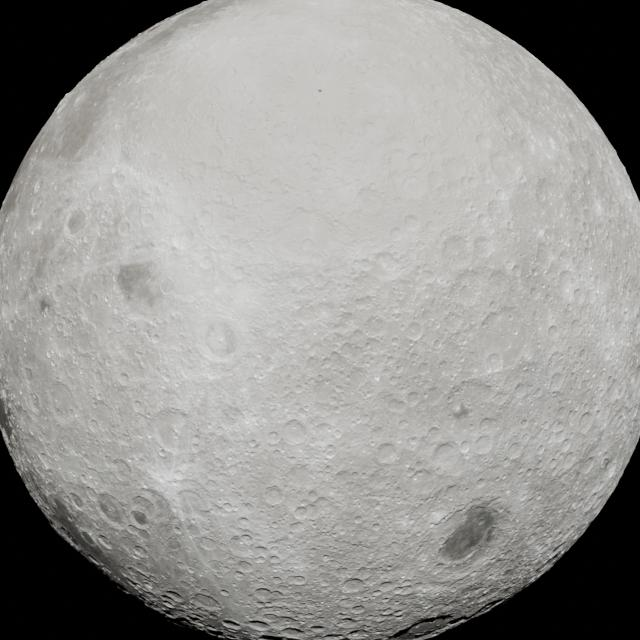crater: (476, 307, 522, 352), (449, 380, 497, 417), (533, 171, 573, 213), (449, 266, 490, 302), (150, 413, 187, 451), (203, 321, 239, 359), (42, 379, 78, 417), (353, 185, 388, 214), (359, 312, 390, 340), (96, 496, 124, 526), (488, 149, 516, 177), (440, 234, 469, 260), (281, 418, 307, 444), (218, 403, 245, 428), (131, 494, 156, 520), (471, 233, 497, 258), (161, 530, 185, 557), (486, 197, 510, 223), (20, 390, 42, 418), (555, 270, 577, 297), (432, 442, 457, 464), (65, 210, 87, 235), (376, 251, 401, 273), (180, 490, 205, 512), (376, 442, 400, 464), (473, 431, 495, 455), (191, 250, 215, 272), (112, 458, 133, 480), (263, 486, 285, 506), (388, 223, 408, 245), (484, 353, 504, 374), (67, 491, 87, 512), (404, 321, 424, 341), (478, 417, 498, 437), (170, 232, 190, 252), (116, 217, 134, 238), (477, 131, 495, 152), (386, 397, 406, 415), (410, 468, 430, 486), (197, 593, 218, 610), (506, 441, 524, 460), (342, 577, 364, 592), (30, 195, 45, 217), (265, 428, 282, 446), (139, 211, 156, 229), (298, 237, 316, 254), (112, 172, 128, 190), (199, 536, 217, 552), (163, 590, 183, 604), (548, 372, 564, 389), (402, 213, 419, 229), (558, 436, 574, 453), (406, 391, 422, 407), (512, 381, 528, 397), (235, 559, 254, 572), (192, 160, 208, 175), (254, 587, 273, 599), (293, 504, 309, 518), (96, 534, 112, 548), (32, 178, 44, 196), (546, 324, 560, 339), (290, 573, 306, 586), (349, 603, 366, 615), (238, 532, 254, 544), (305, 489, 319, 502), (504, 259, 517, 272), (132, 399, 145, 412), (23, 367, 34, 382), (118, 370, 130, 383), (88, 418, 100, 431), (219, 588, 230, 598), (157, 448, 167, 458), (248, 438, 258, 448)
rock: (426, 508, 448, 527), (132, 544, 146, 558)
